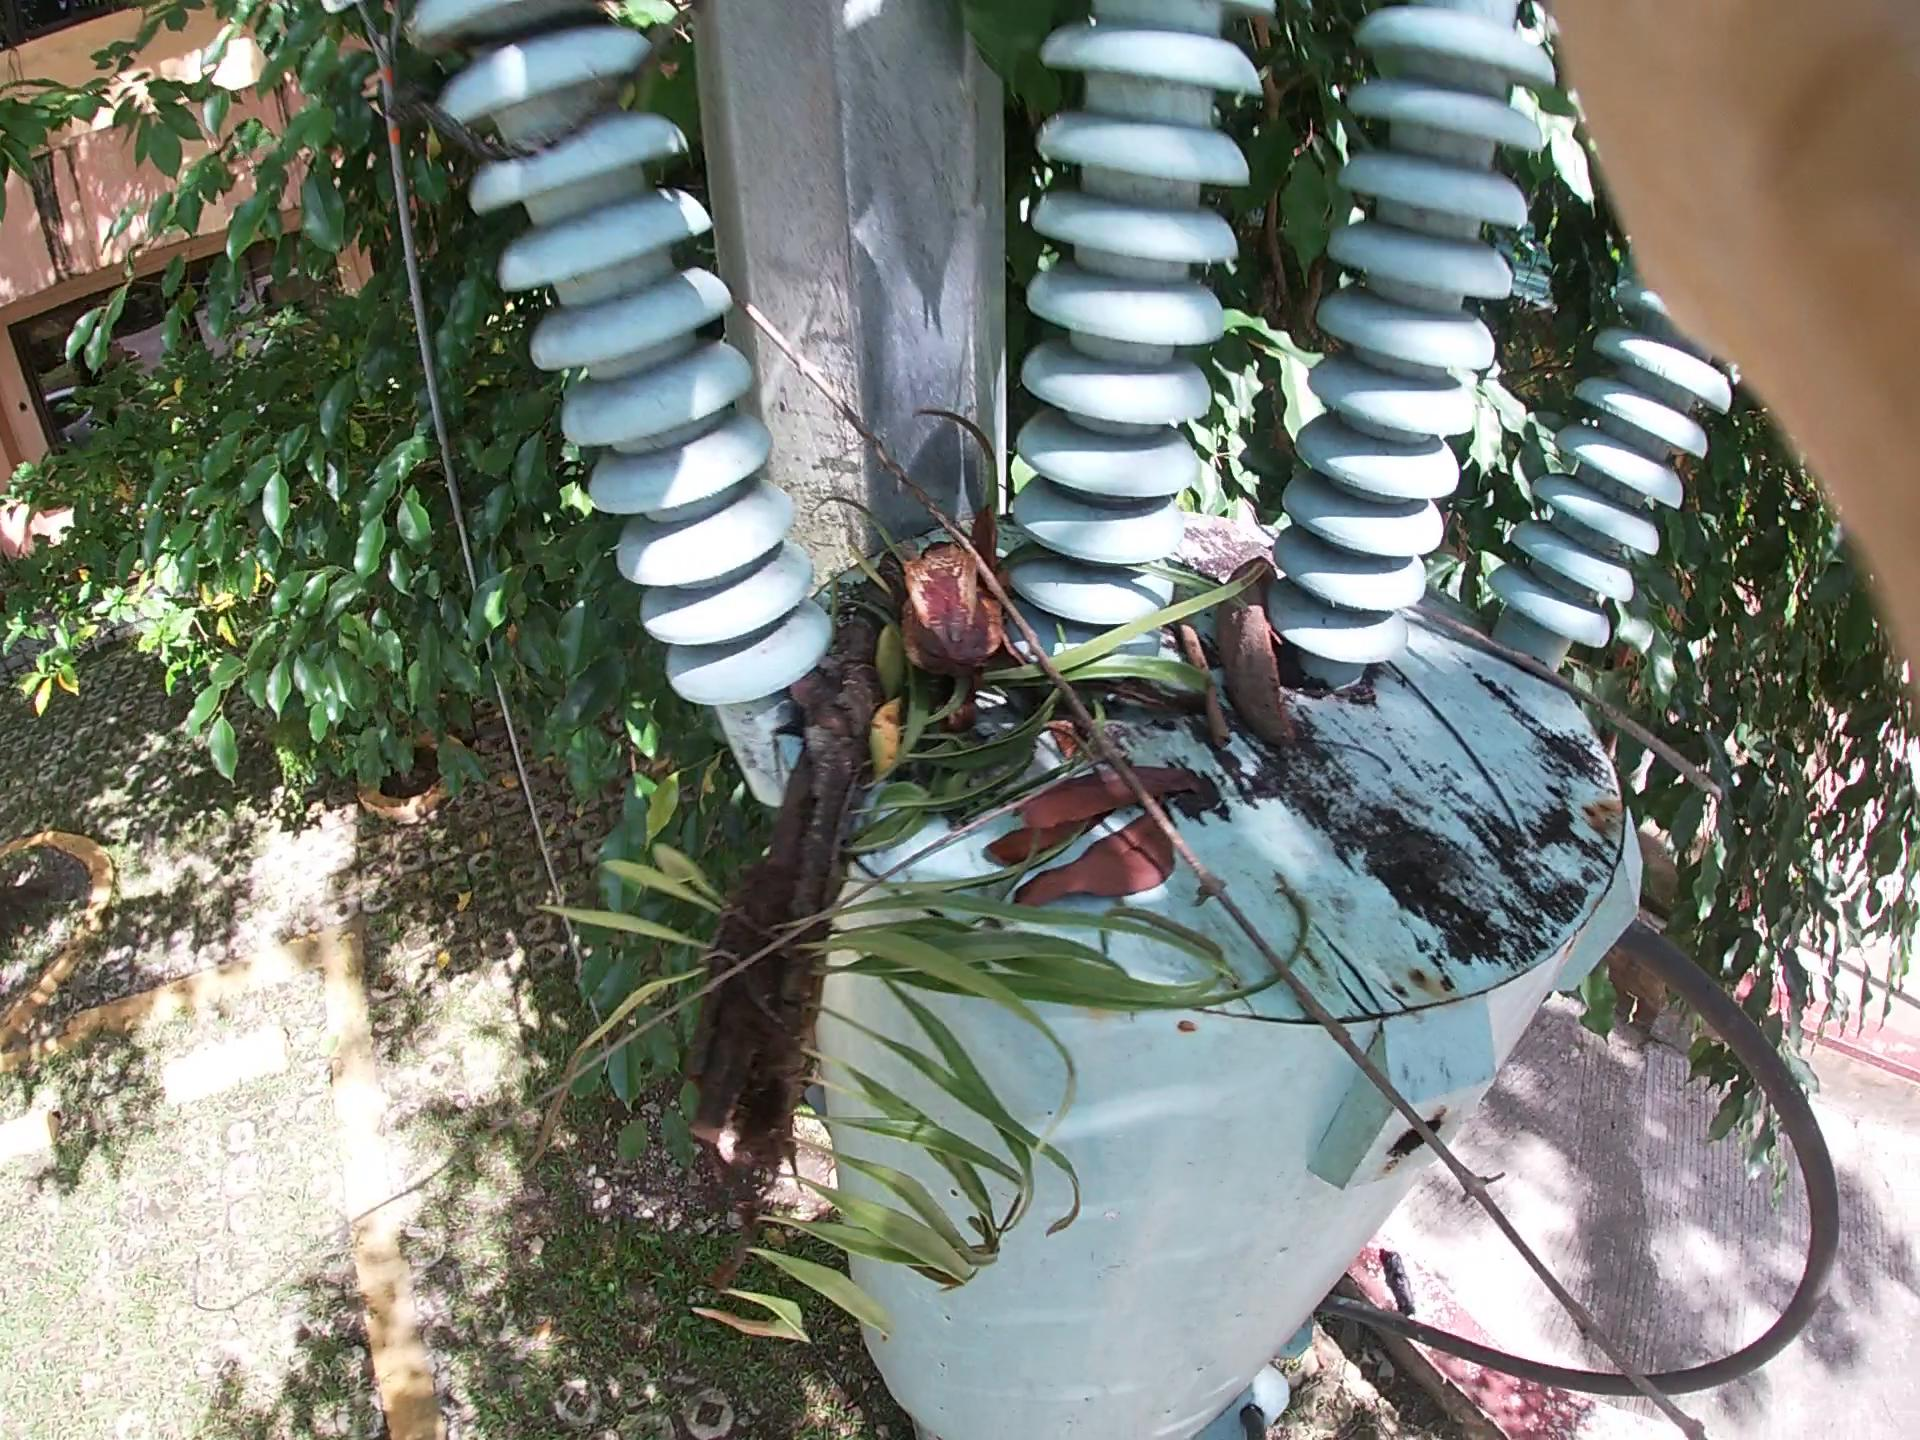branch with leaves: (636, 349, 931, 1193)
leaf: (996, 690, 1170, 939)
mahogany fruit: (1175, 390, 1377, 797), (874, 402, 1113, 725)
tree branch: (812, 299, 1574, 1308), (1411, 454, 1813, 812), (1170, 446, 1214, 811)
